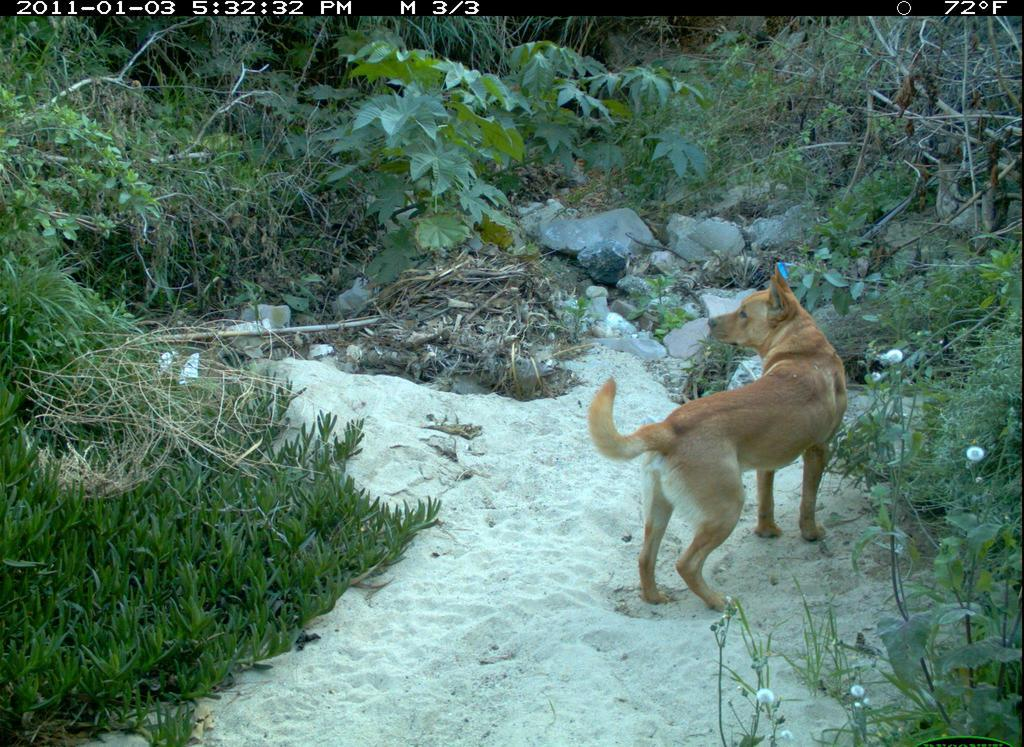dog: (573, 263, 854, 619)
